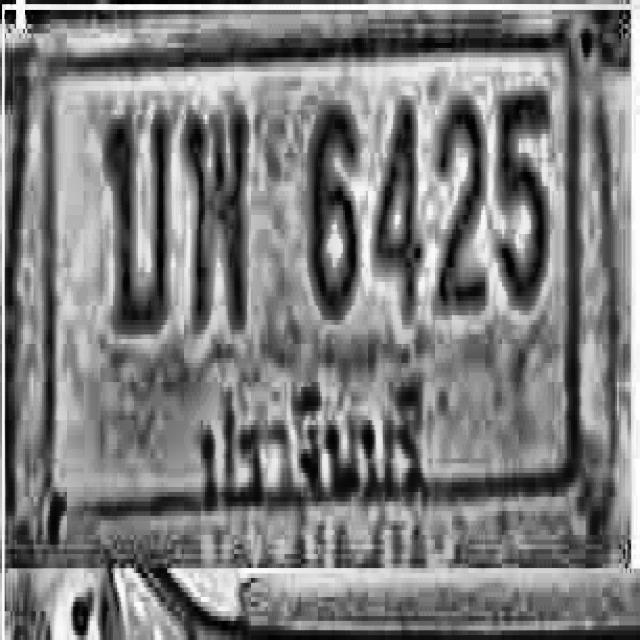license-plate: (5, 3, 629, 565)
